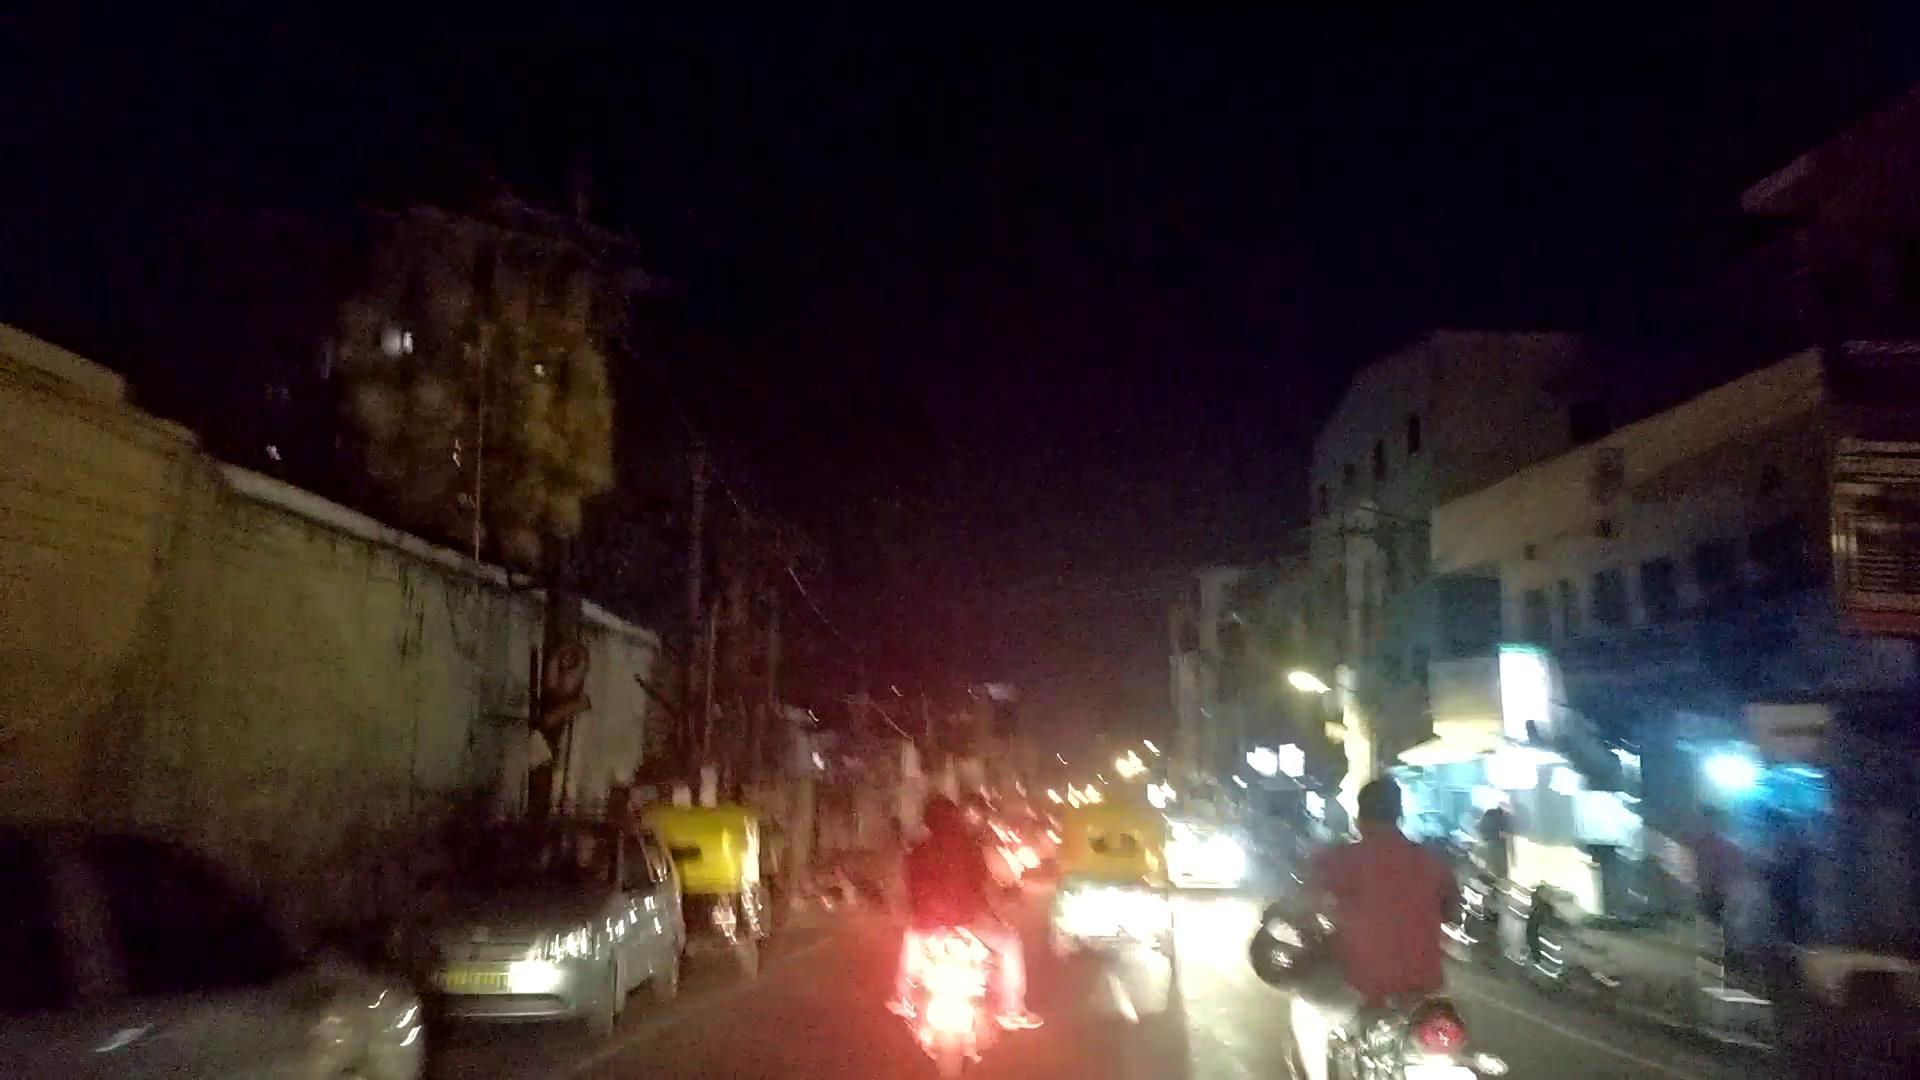on: (1400, 522, 1655, 819)
